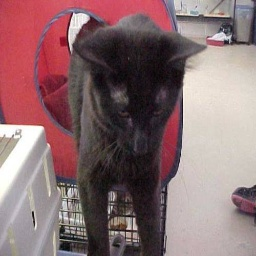cat: (67, 11, 188, 256)
